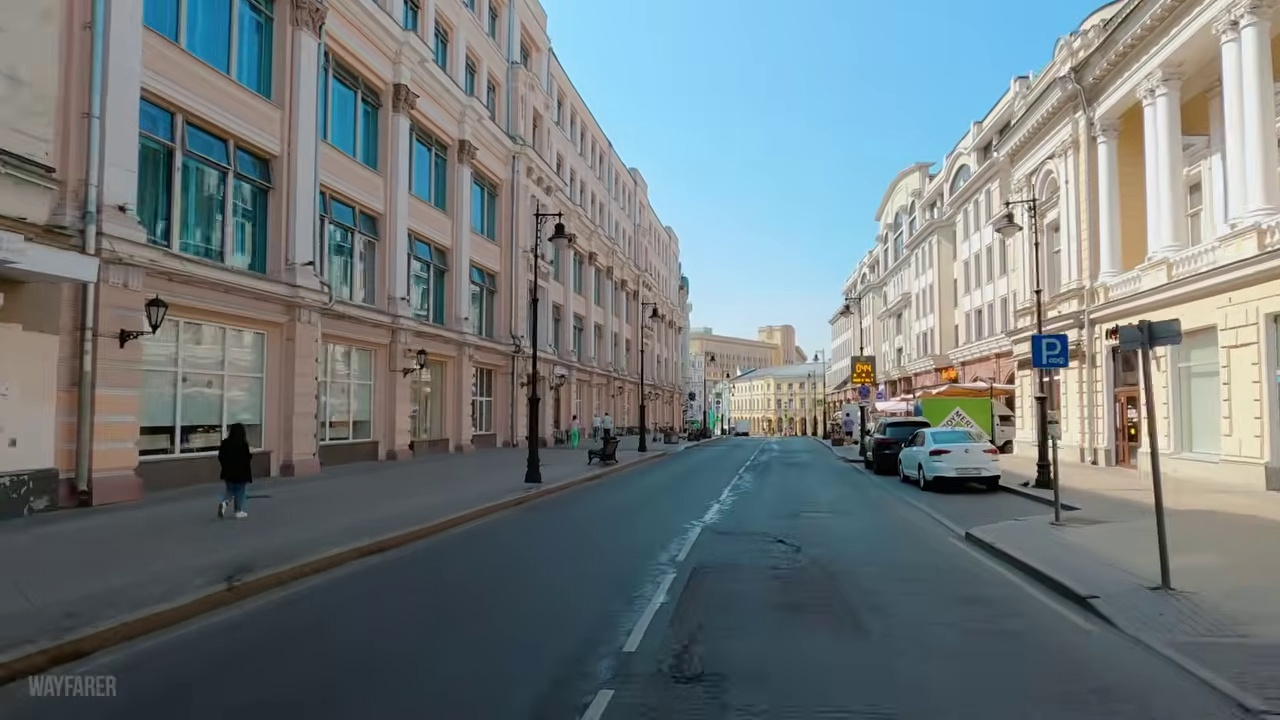apagada: (546, 226, 571, 253), (998, 221, 1022, 238)
